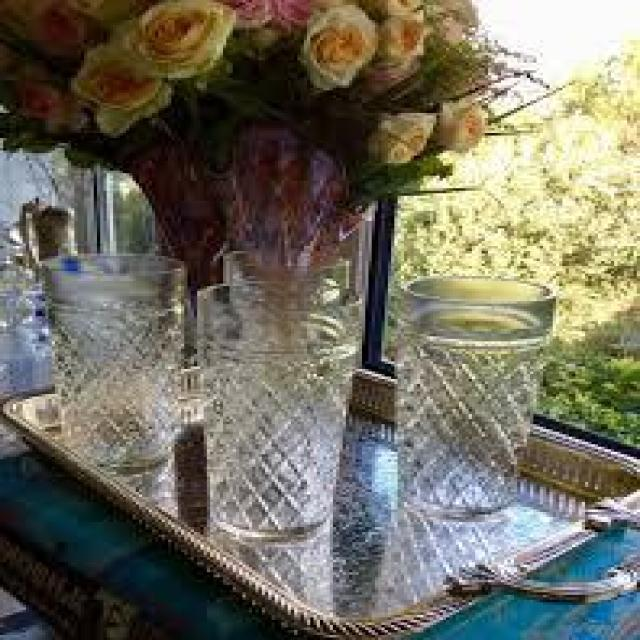non-organic waste: (195, 282, 364, 541)
